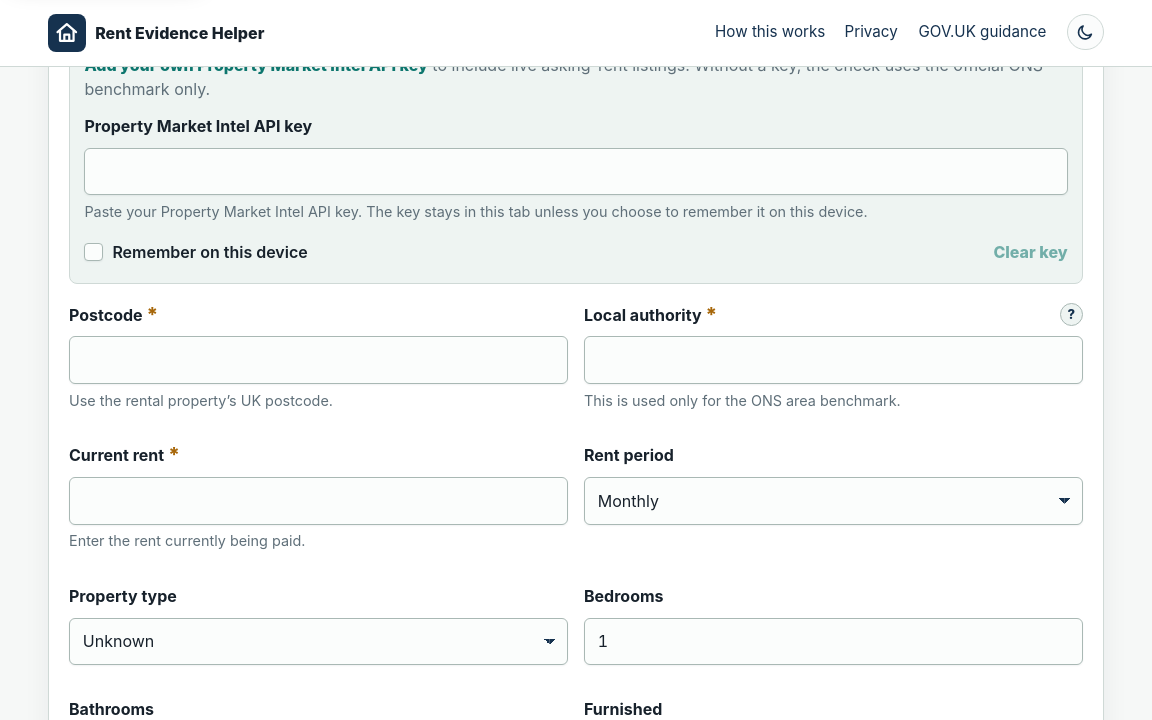
Test: App › lets a user complete the default current-rent check with dispute support
(page scrolled)
Expected: the link with aria-label "Rent Evidence Helper home" is shown, x1=48 y1=14 x2=264 y2=52
Expected: the text "Rent Evidence Helper" is shown, x1=95 y1=21 x2=264 y2=45
Type "SW12 8AA" into the field labelled "Postcode *". click: coordinates (318, 360)
box: x1=69 y1=336 x2=568 y2=384
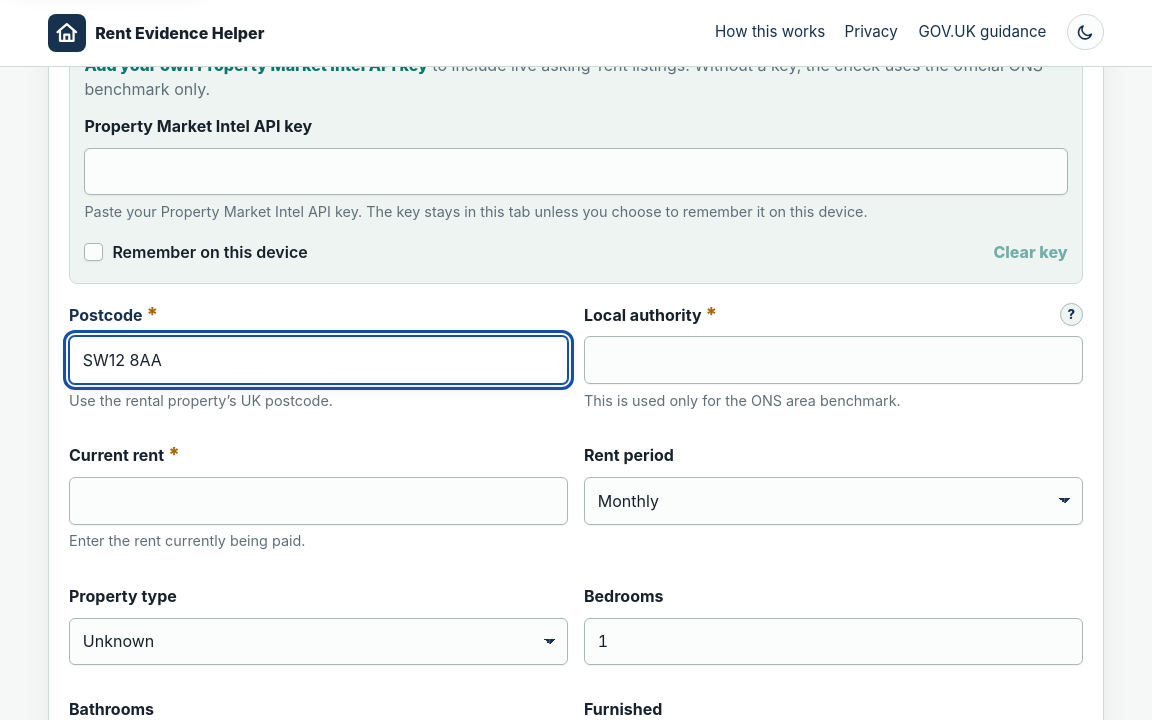
Type "2450" into the field labelled "Current rent *". click: coordinates (318, 501)
box: x1=69 y1=477 x2=568 y2=525
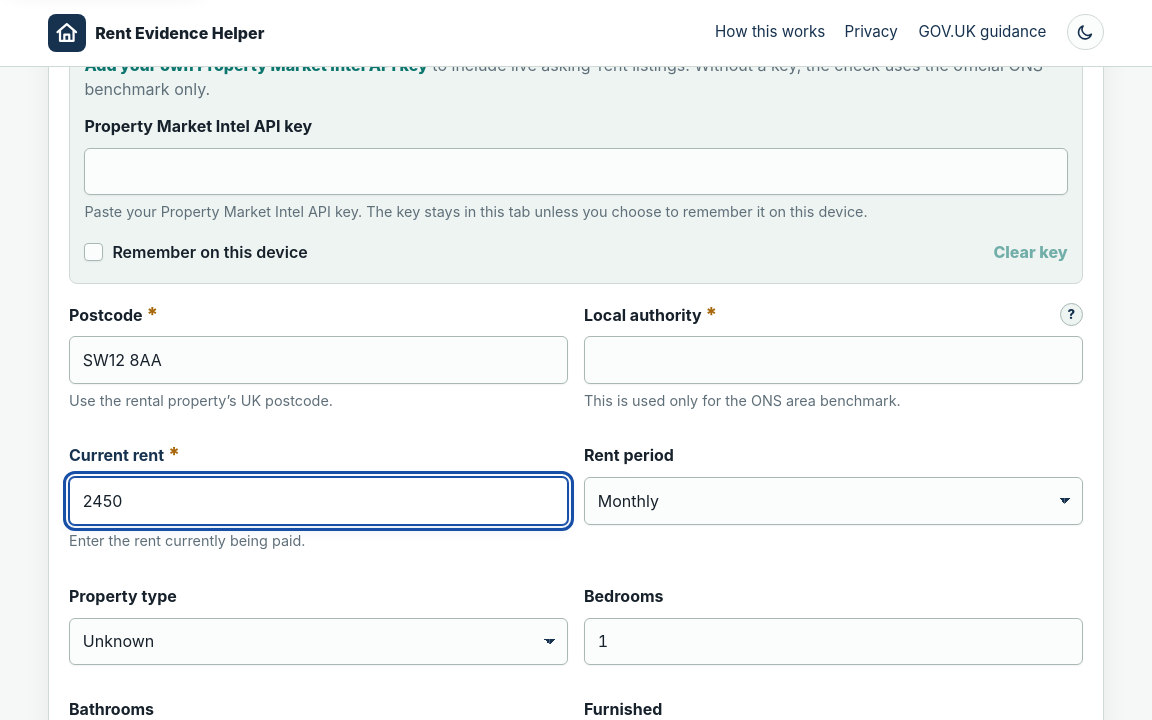
Type "Lambeth (London)" into the search field labelled "Local authority *". click: coordinates (834, 360)
box: x1=584 y1=336 x2=1083 y2=384
(page scrolled)
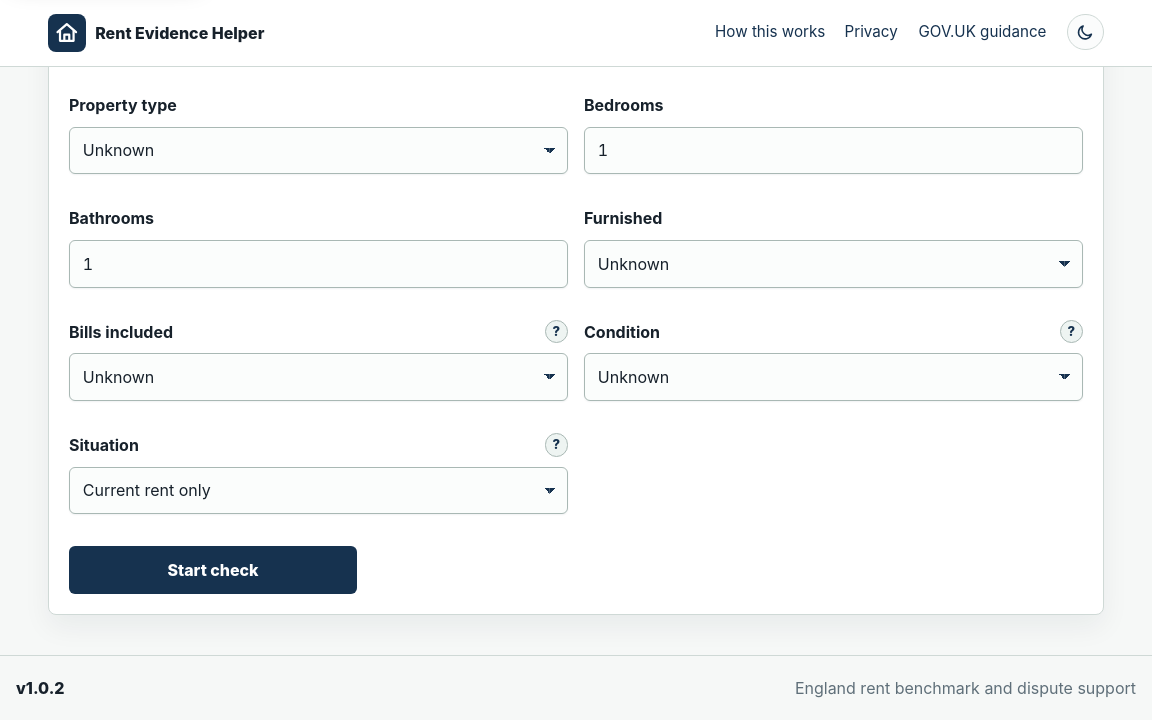
Click the button "Start check". click: coordinates (213, 570)
box: x1=69 y1=546 x2=357 y2=594
(page scrolled)
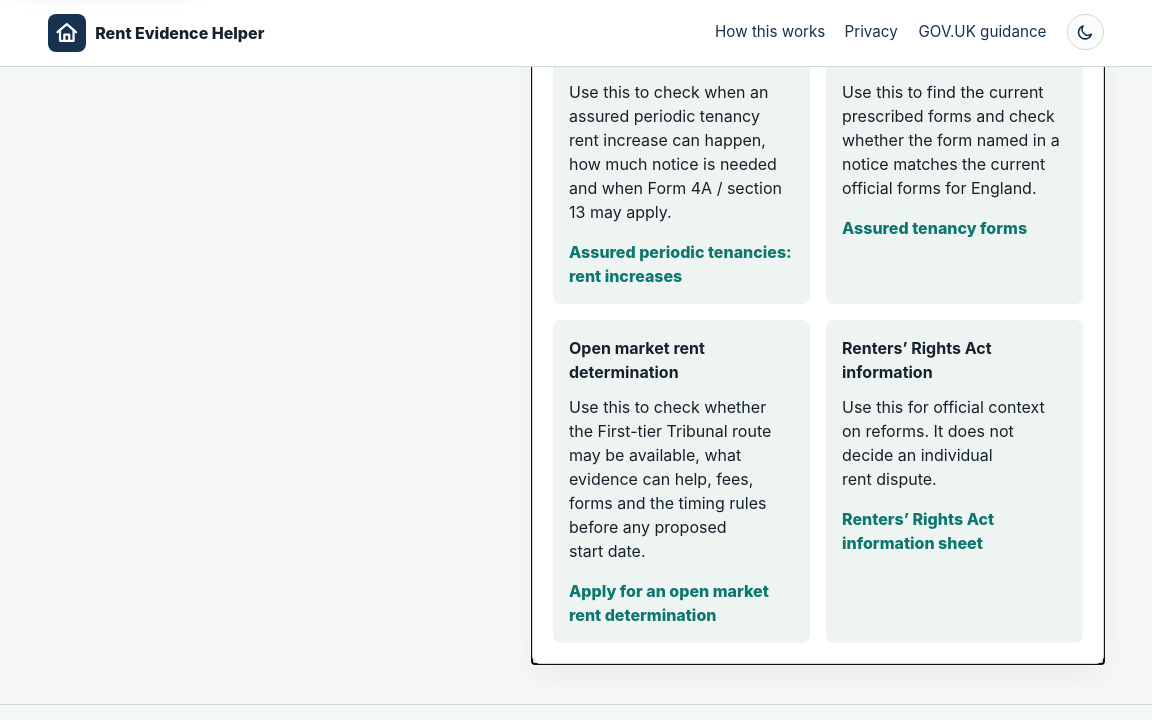
Now the heading "Open market rent determination" is shown, box x1=569 y1=338 x2=705 y2=382
Now the text "timing rules before any proposed start date" is shown, box x1=569 y1=397 x2=771 y2=561
Now the heading "Renters’ Rights Act information" is shown, box x1=842 y1=338 x2=992 y2=382
